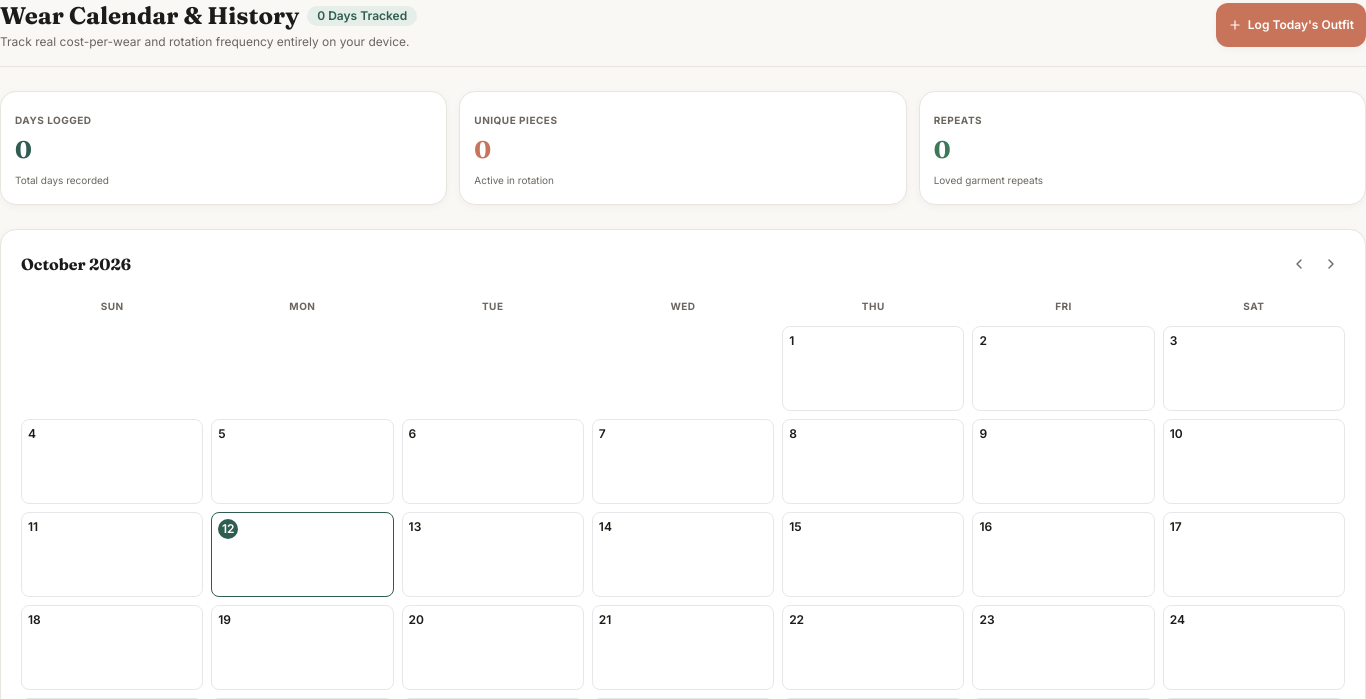
Test: Phase 7: Me Screen, Privacy Center, Encrypted Backup & Wardrobe Intelligence › WearCalendarLog › renders monthly wear calendar, day metrics, and opens day detail modal
This screenshot has width=1366, height=699.
Check: the heading "Wear Calendar & History" is shown, box top-left (0, 0), bottom-right (299, 32)
Check: the text "Days Logged" is shown, box top-left (15, 114), bottom-right (92, 126)
Click the button "Log Today's Outfit".
click(1291, 25)  # box top-left (1216, 3), bottom-right (1365, 47)
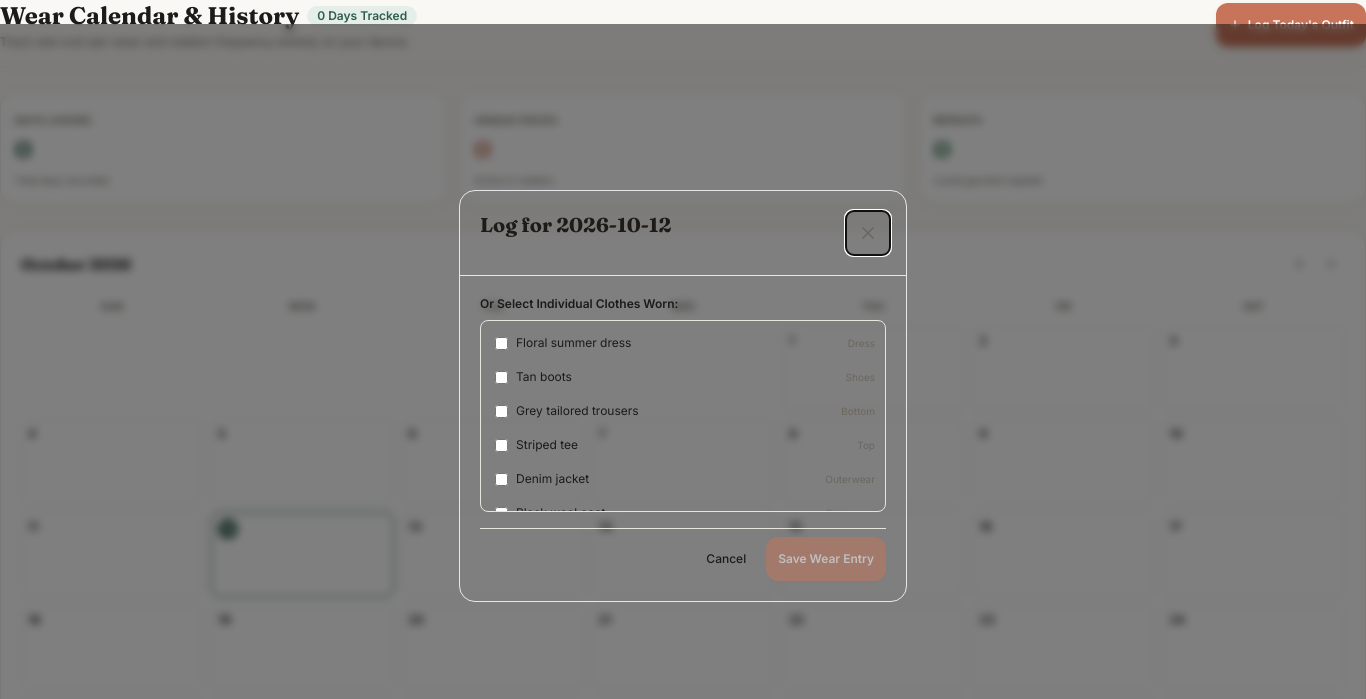
Check: the button "Save Wear Entry" is shown, box top-left (766, 537), bottom-right (886, 581)
